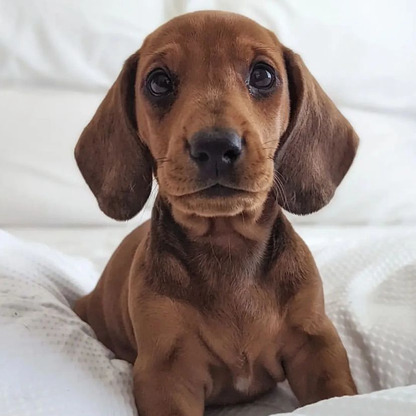dachshund: (76, 14, 388, 406)
